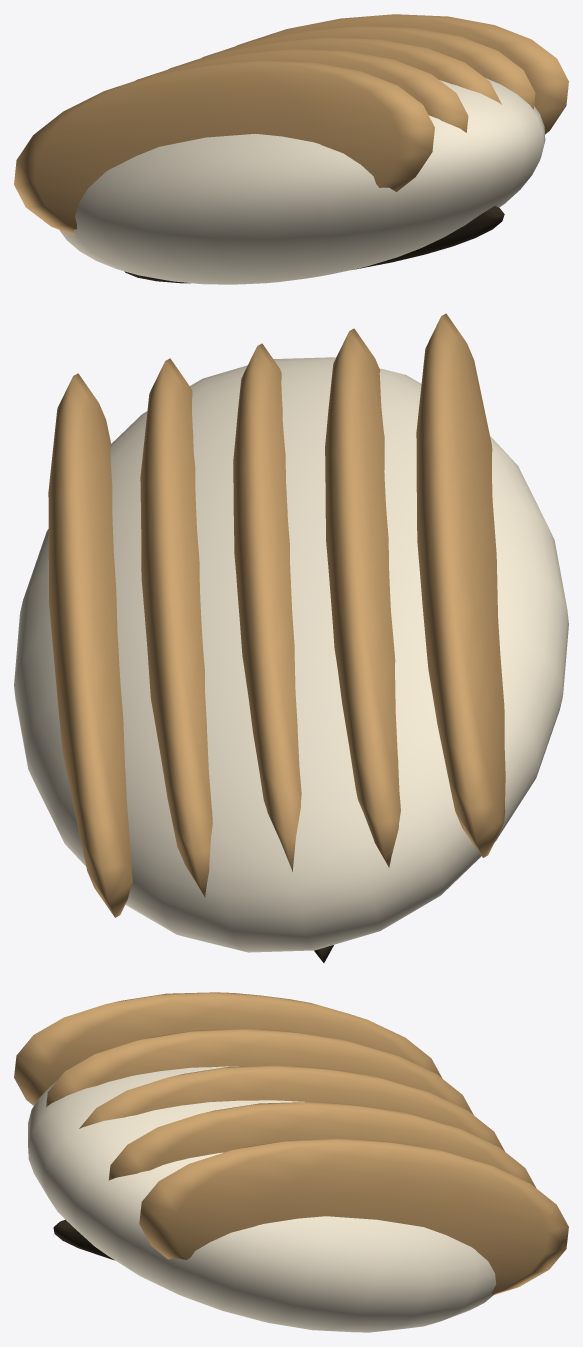
The model's file is cowrie.glb.
3 renders of one model, top to bottom at view 1: azimuth 30°, elevation 25°; view 2: azimuth 150°, elevation 25°; view 3: azimuth 270°, elevation 25°, orthographic. The views are drawn at different scales.
Size of the model in its own units: 1.48 by 1.02 by 1.64.
